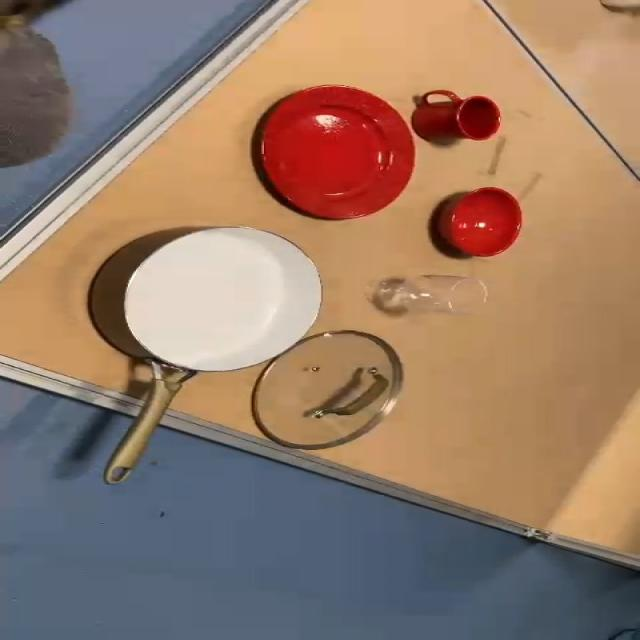Bowl: (430, 182, 528, 260)
Glass: (362, 277, 500, 319)
Plate: (258, 84, 417, 227)
cup: (412, 90, 508, 144)
pot: (91, 229, 336, 485)
